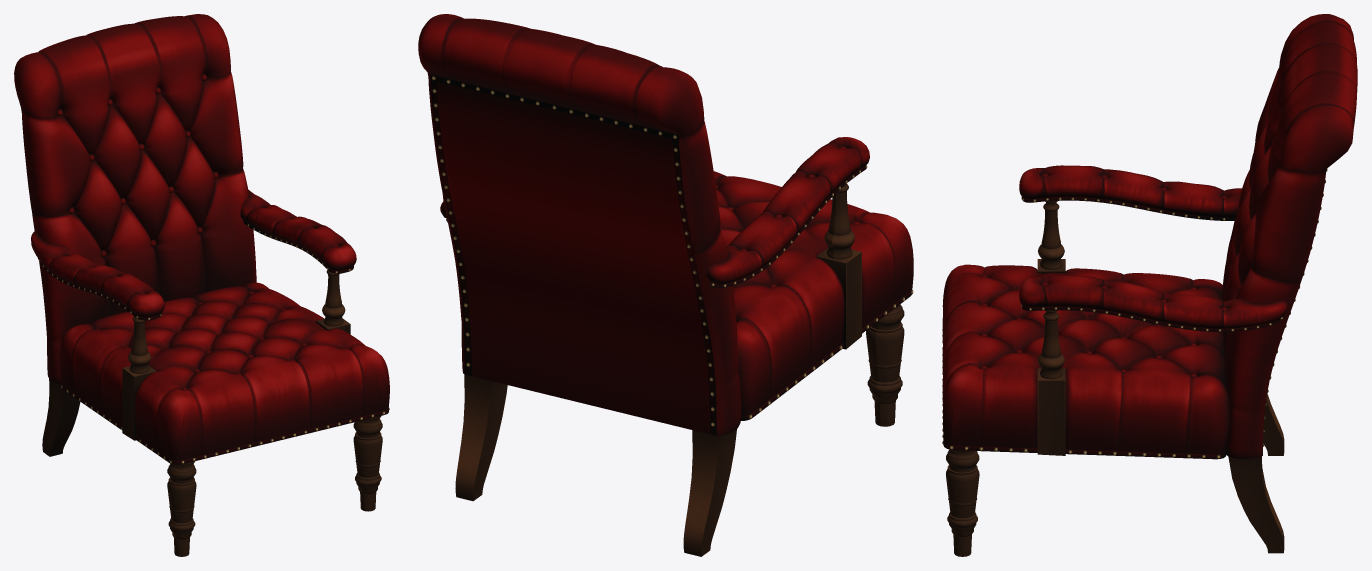
The model's file is red_chair.fbx.
The picture shows the model from 3 angles, left to right: view 1: azimuth 30°, elevation 25°; view 2: azimuth 150°, elevation 25°; view 3: azimuth 270°, elevation 25°; orthographic projection. The views are drawn at different scales.
Parts seen in each view (by area): view 1: a; view 2: a; view 3: a.
Boxes of the visible parts, box(x1,y1,x2,y2) form: a: box(14, 14, 389, 556); a: box(418, 14, 913, 556); a: box(942, 14, 1357, 556).
Bounding box in the file's own units: 148 × 239 × 202.
6 materials, 6 textured.
